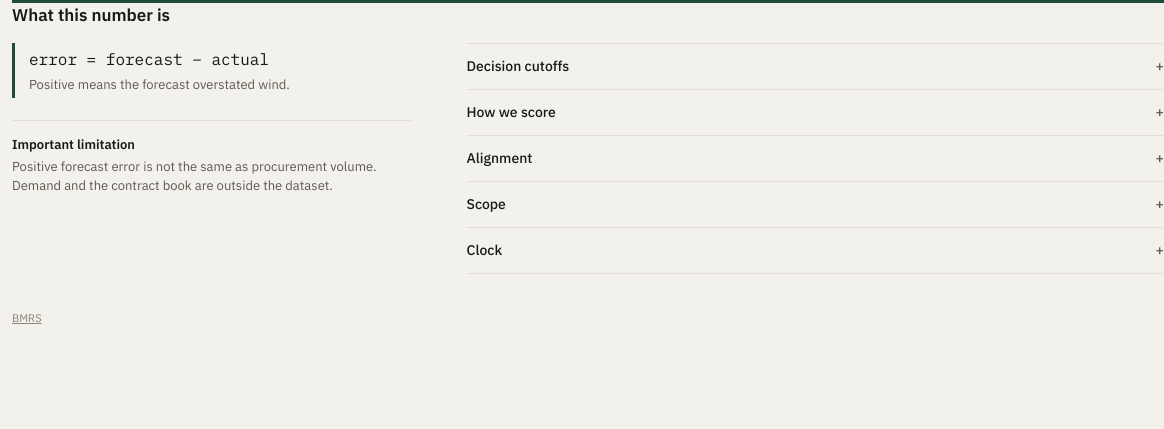
Test: navigation, labels, and methodology › shows January WAPE to two decimal places
Click the heading "How we score": click(511, 112) [466, 102, 556, 120]
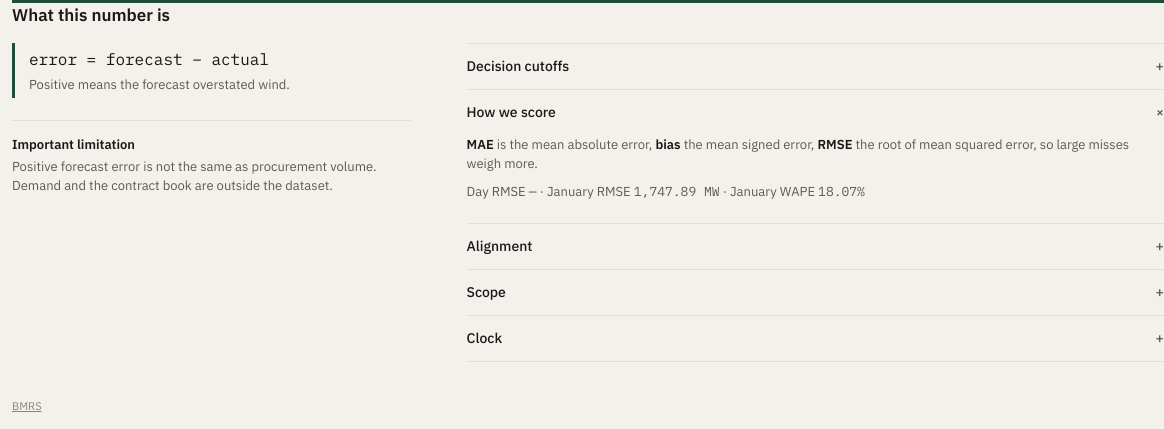
Result: the text "18.07%" is shown at [818, 182, 865, 200]
